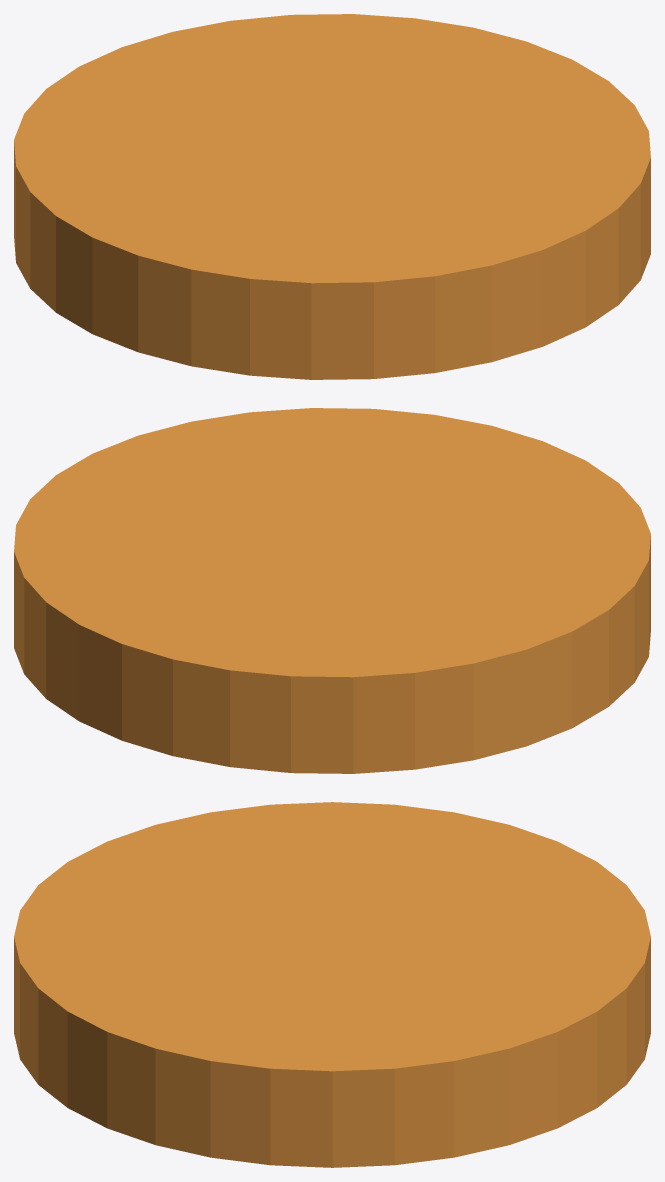
File: coins.fbx
3 renders of one model, top to bottom at view 1: azimuth 30°, elevation 25°; view 2: azimuth 150°, elevation 25°; view 3: azimuth 270°, elevation 25°, orthographic.
Parts seen in each view (by area): view 1: Circle; view 2: Circle; view 3: Circle.
Part boxes in pixels (left/top/right/bottom): Circle: left=14, top=14, right=650, bottom=379; Circle: left=14, top=408, right=650, bottom=773; Circle: left=14, top=802, right=650, bottom=1167.
Bounding box in the file's own units: 200 × 33.46 × 200.
